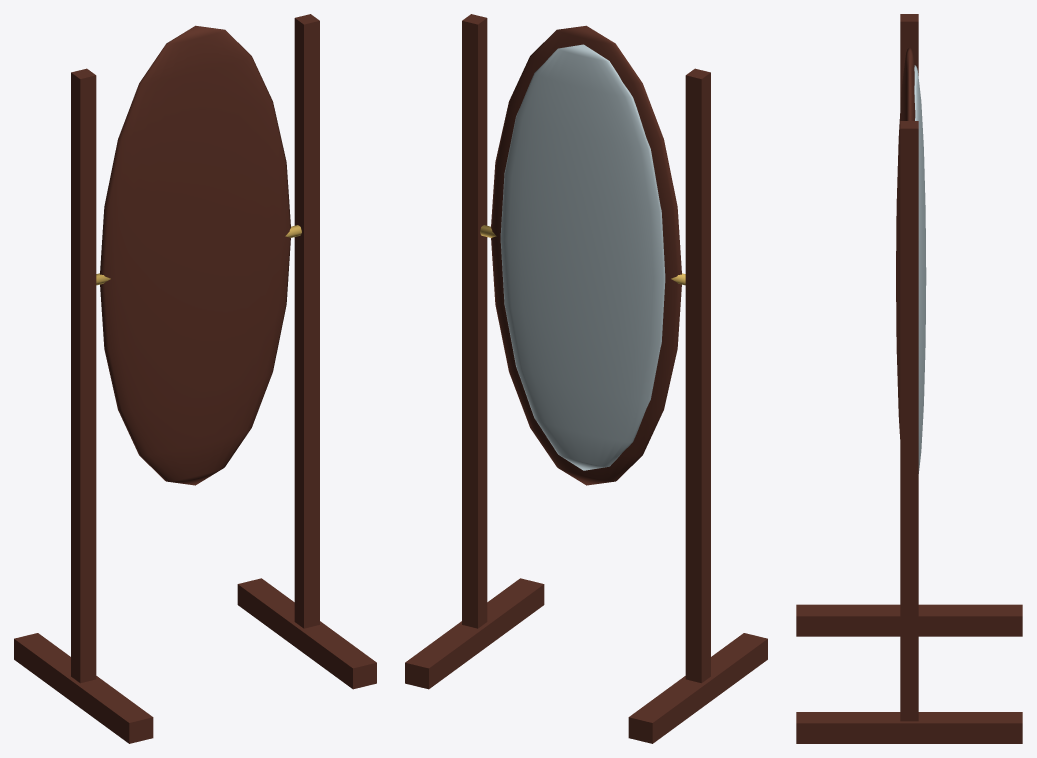
The model's file is SM_PRP_Psiche.fbx.
3 renders of one model, left to right at view 1: azimuth 30°, elevation 25°; view 2: azimuth 150°, elevation 25°; view 3: azimuth 270°, elevation 25°, orthographic.
Visible parts, largest first — view 1: SM_PRP_Psiche; view 2: SM_PRP_Psiche; view 3: SM_PRP_Psiche.
Boxes of the visible parts, x1=… form: SM_PRP_Psiche: x1=14, y1=14, x2=376, y2=743; SM_PRP_Psiche: x1=405, y1=14, x2=767, y2=743; SM_PRP_Psiche: x1=796, y1=14, x2=1022, y2=743.
Size of the model in its own units: 0.62 by 1.55 by 0.5.
